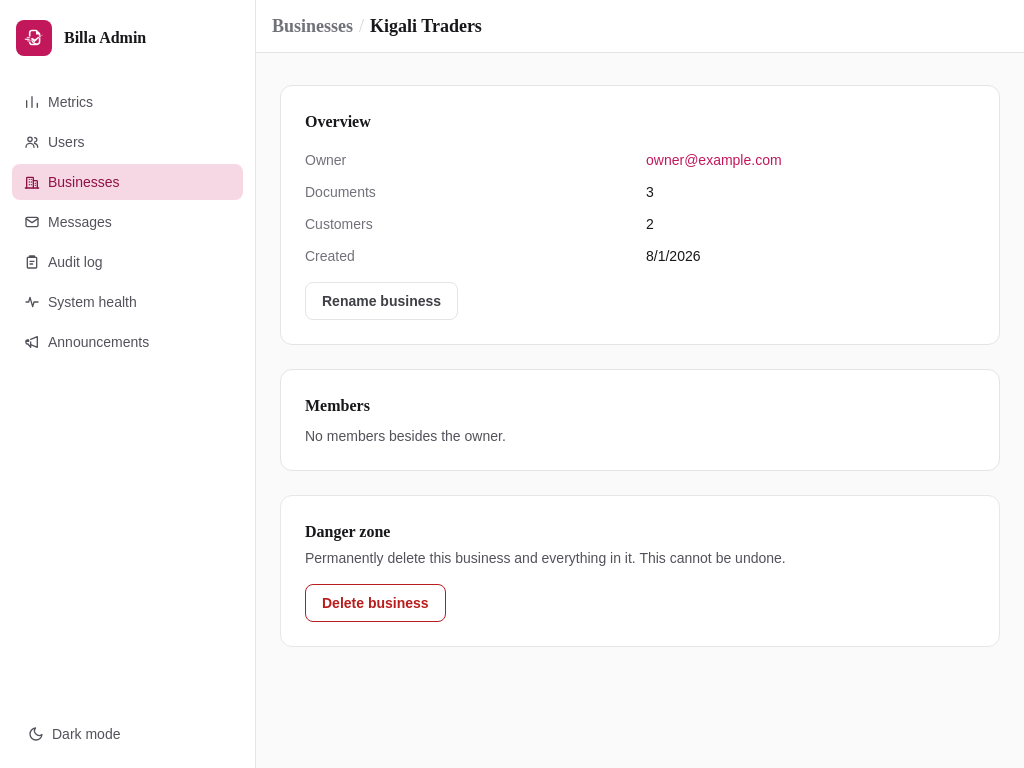
Test case: AdminBusinessDetail › requires typing the current name before rename is enabled, then renames and updates the page
Click the button "Rename business" at (382, 301), box x1=305 y1=282 x2=458 y2=320
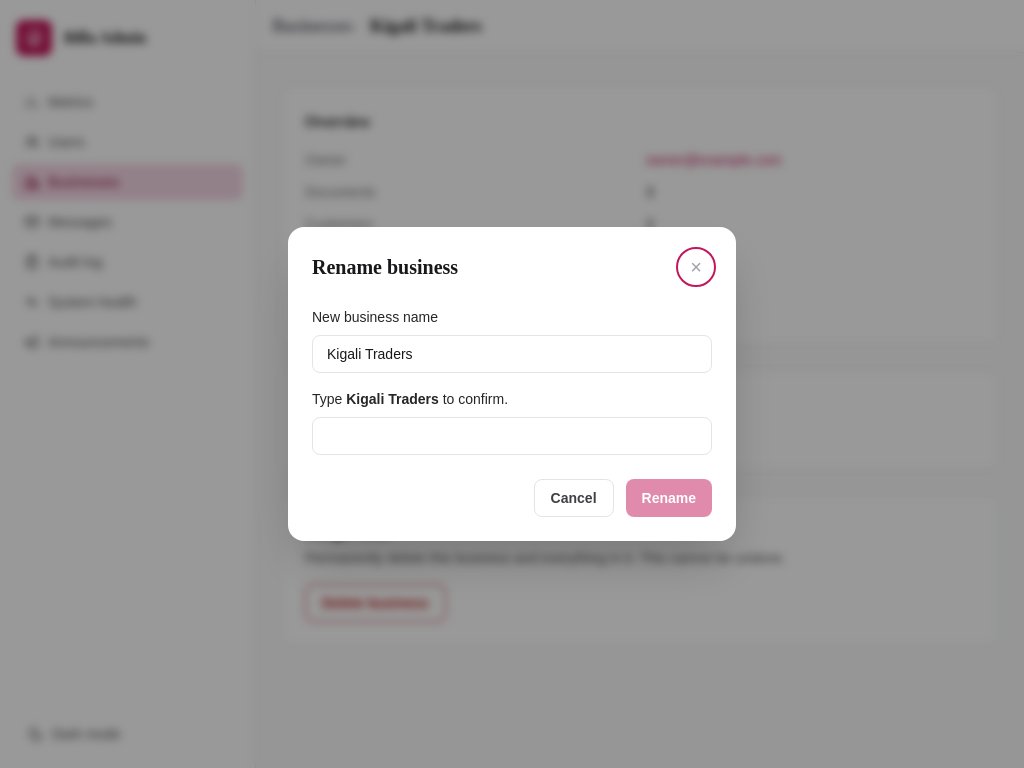
Now the button "Rename" is disabled, box x1=626 y1=479 x2=712 y2=517
Replace the text in the field labelled "New business name" with "Musanze Traders" at (512, 354), box x1=312 y1=335 x2=712 y2=373
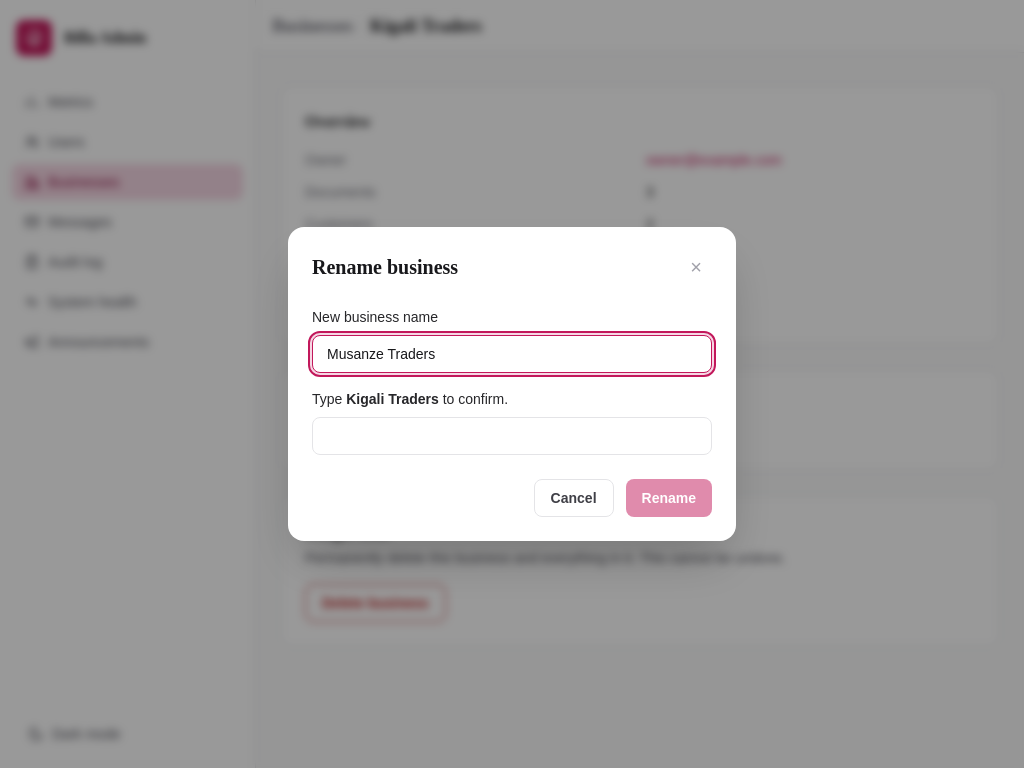
Type "Kigali Traders" into the field labelled "Type Kigali Traders to confirm." at (512, 436), box x1=312 y1=417 x2=712 y2=455
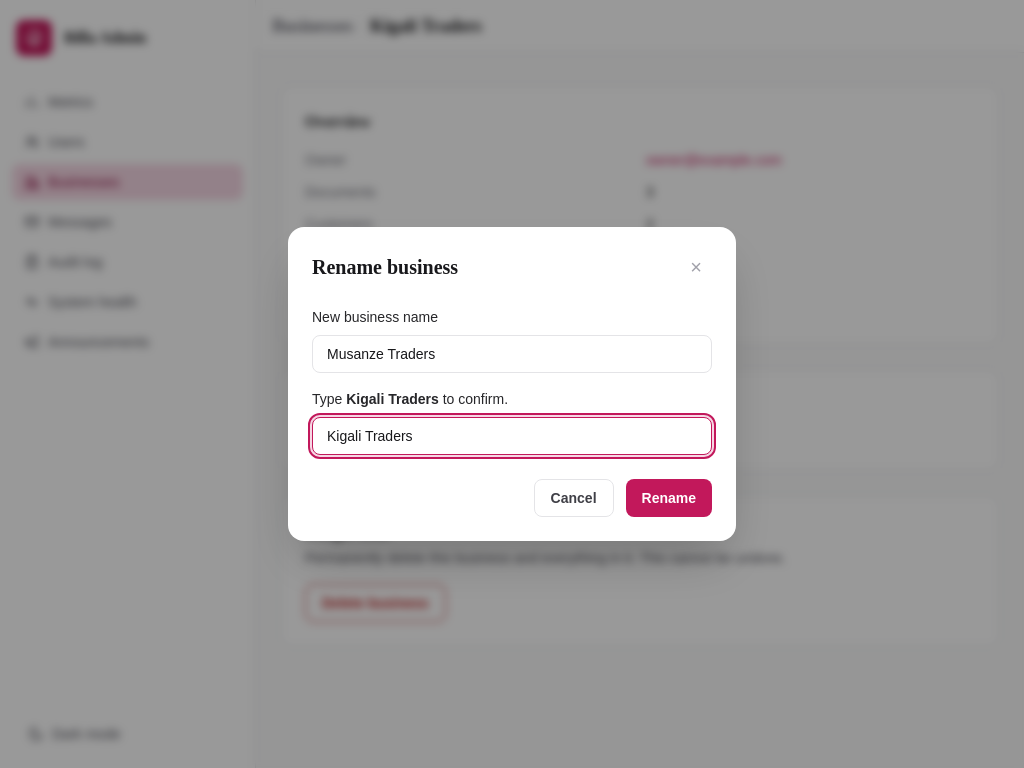
Now the button "Rename" is enabled
Click the button "Rename" at (669, 498), box x1=626 y1=479 x2=712 y2=517
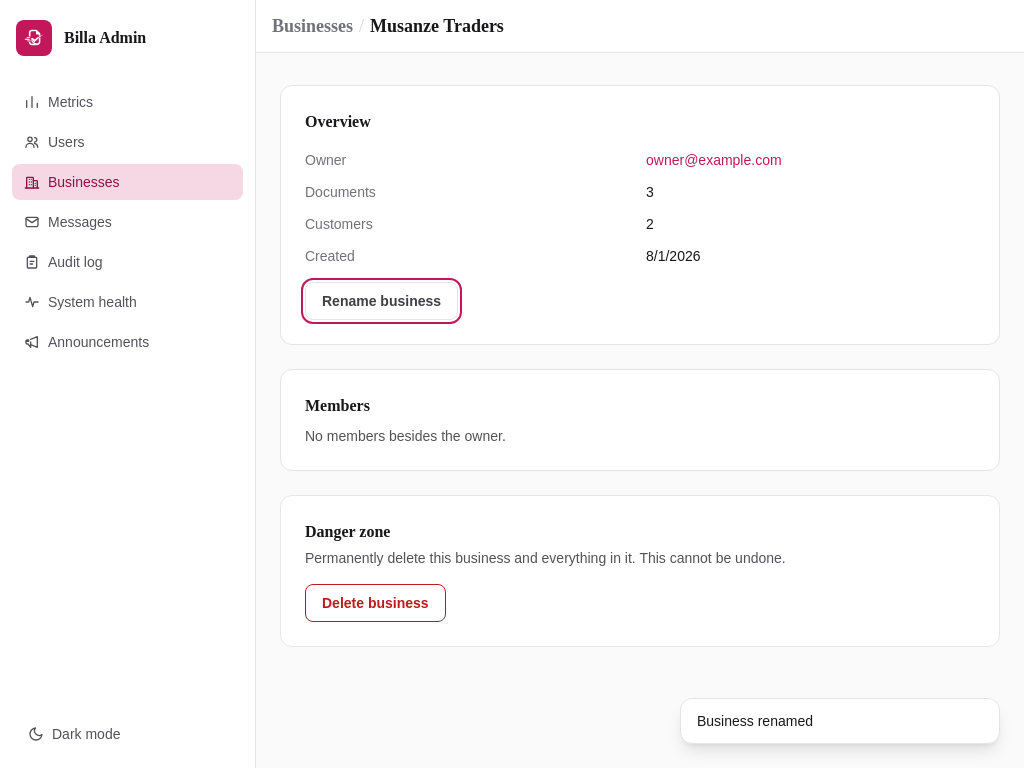
Now the text "Musanze Traders" is shown, box x1=370 y1=12 x2=504 y2=40
Now the text "Business renamed" is shown, box x1=697 y1=713 x2=813 y2=729
